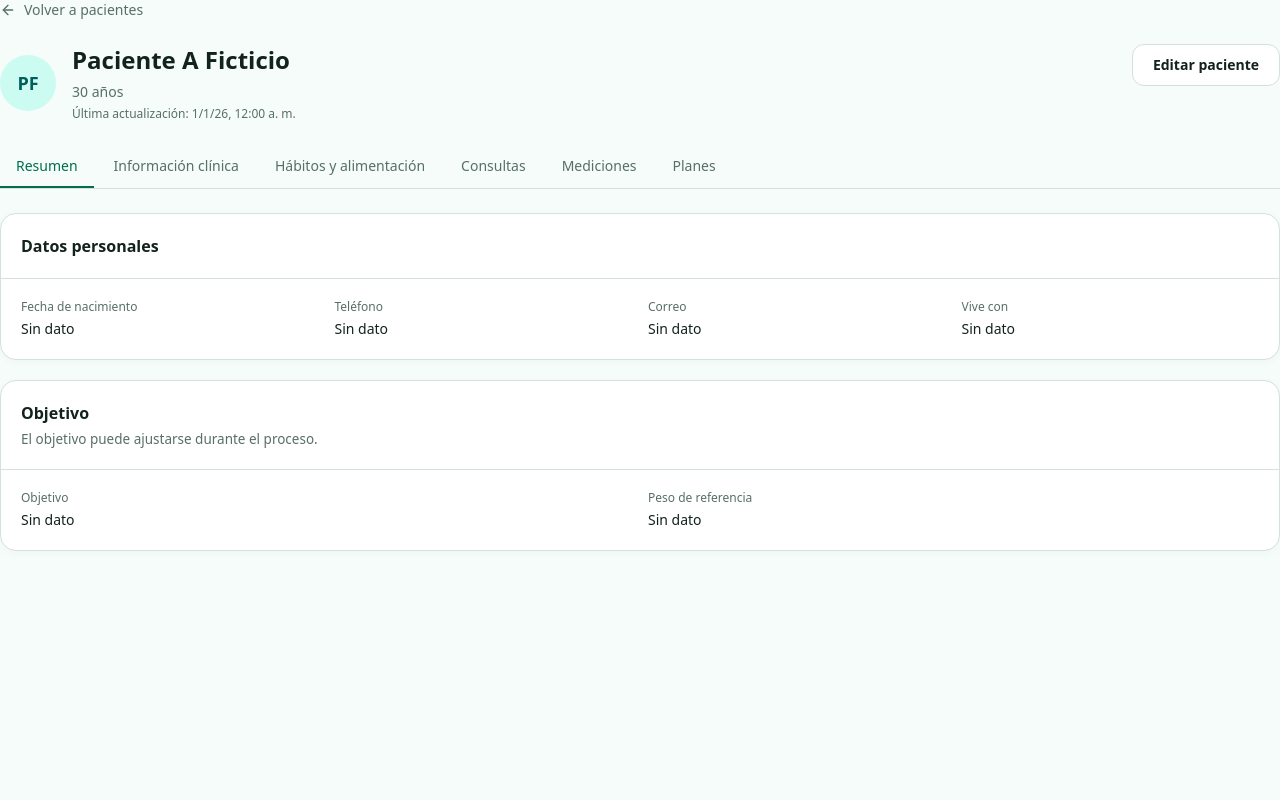
Test: ficha y pestañas con respuestas demoradas (AUD-017) › eliminar una condición recarga solo mientras la pestaña sigue montada
Click the button "Información clínica" at (176, 167), box x1=98 y1=146 x2=255 y2=188
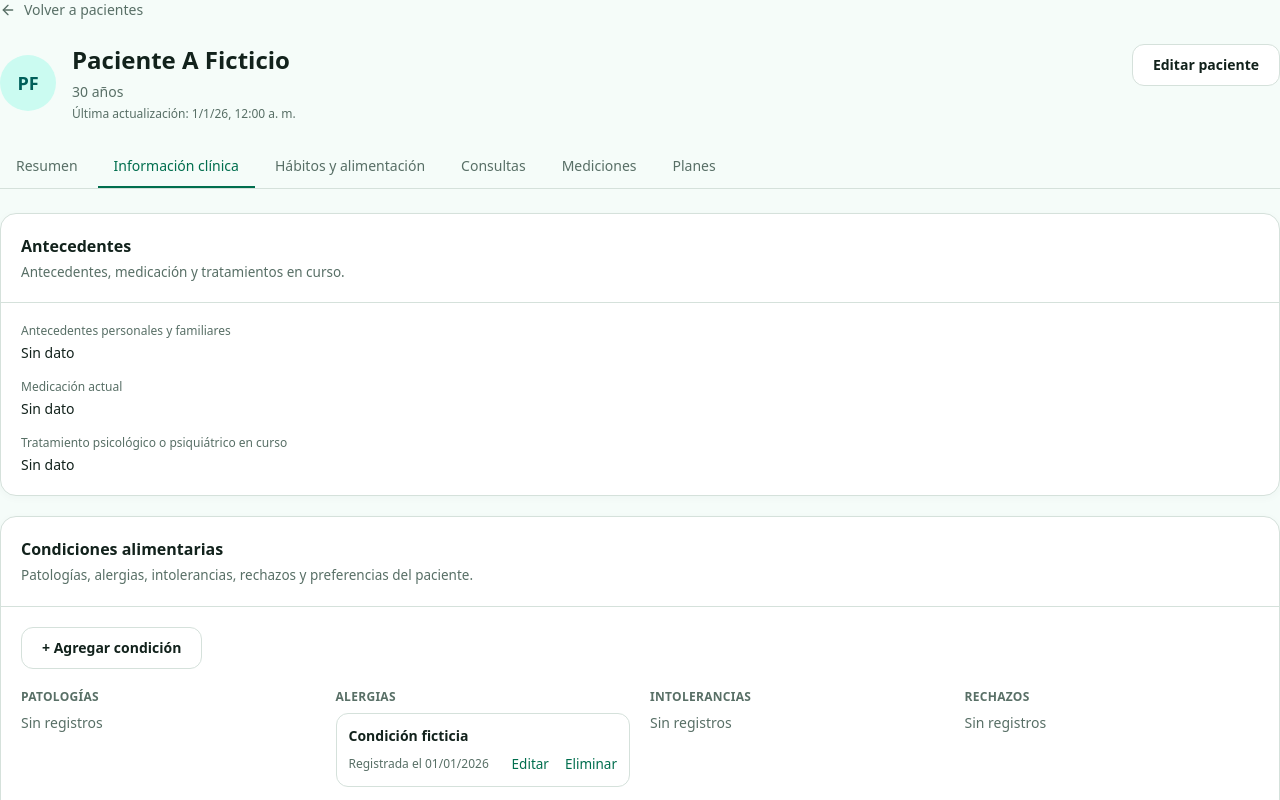
Result: the button "Eliminar" is shown
Click the button "Eliminar" at (591, 764), box x1=565 y1=754 x2=617 y2=774
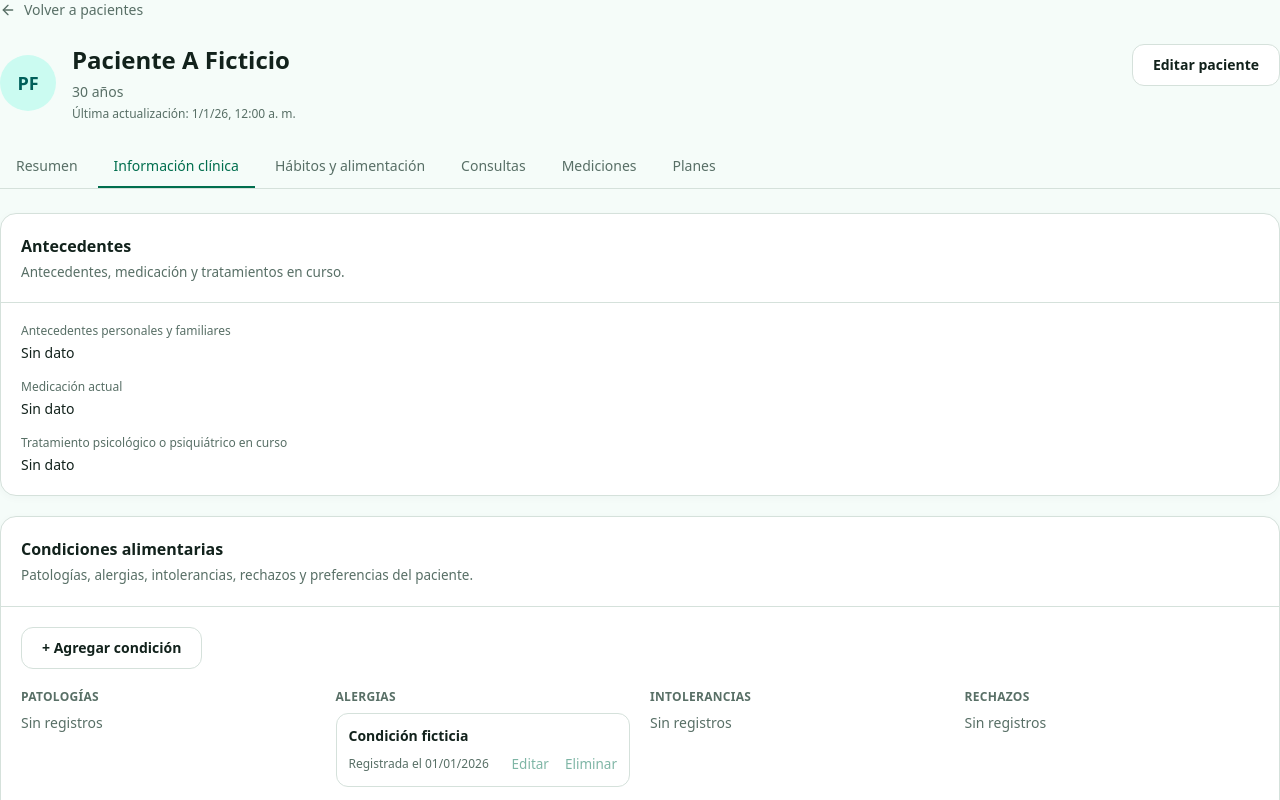
Click the button "Resumen" at (47, 167), box x1=0 y1=146 x2=94 y2=188
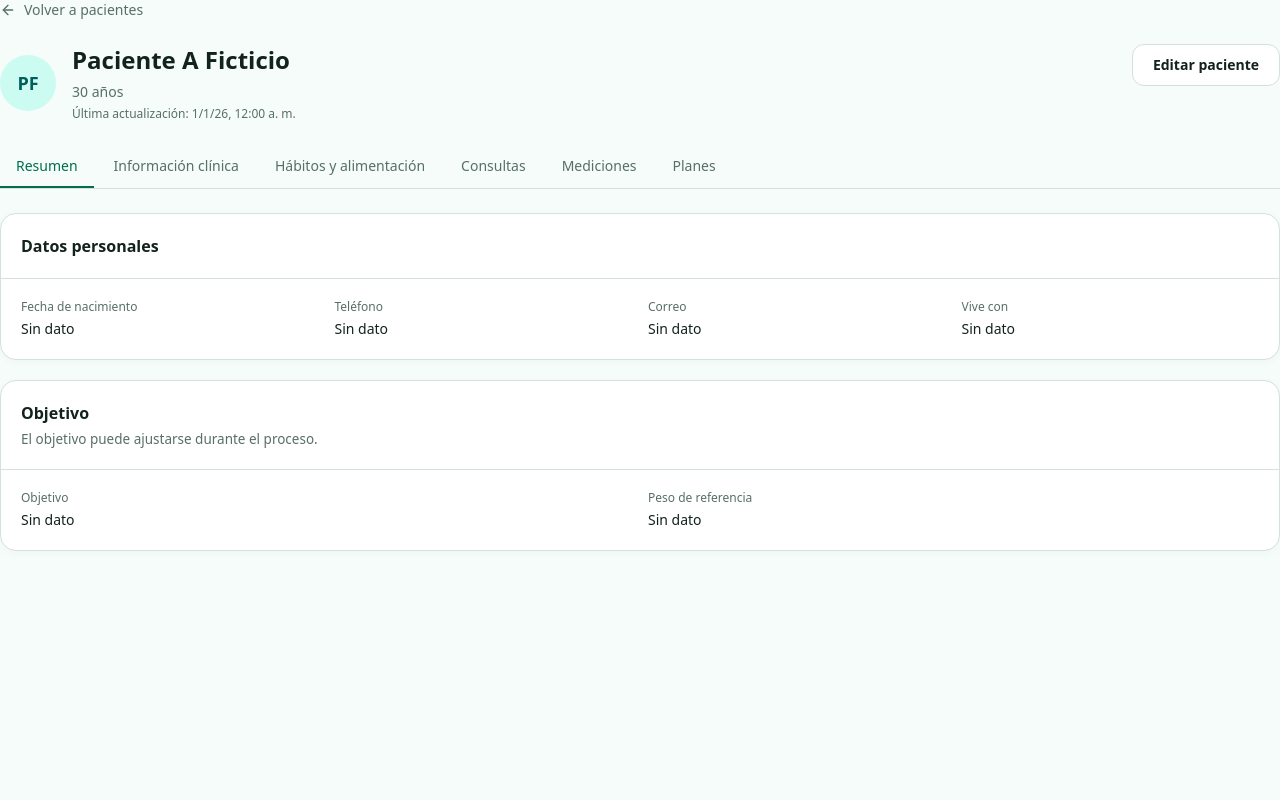
Result: the text "Datos personales" is shown at x1=21 y1=234 x2=159 y2=258
